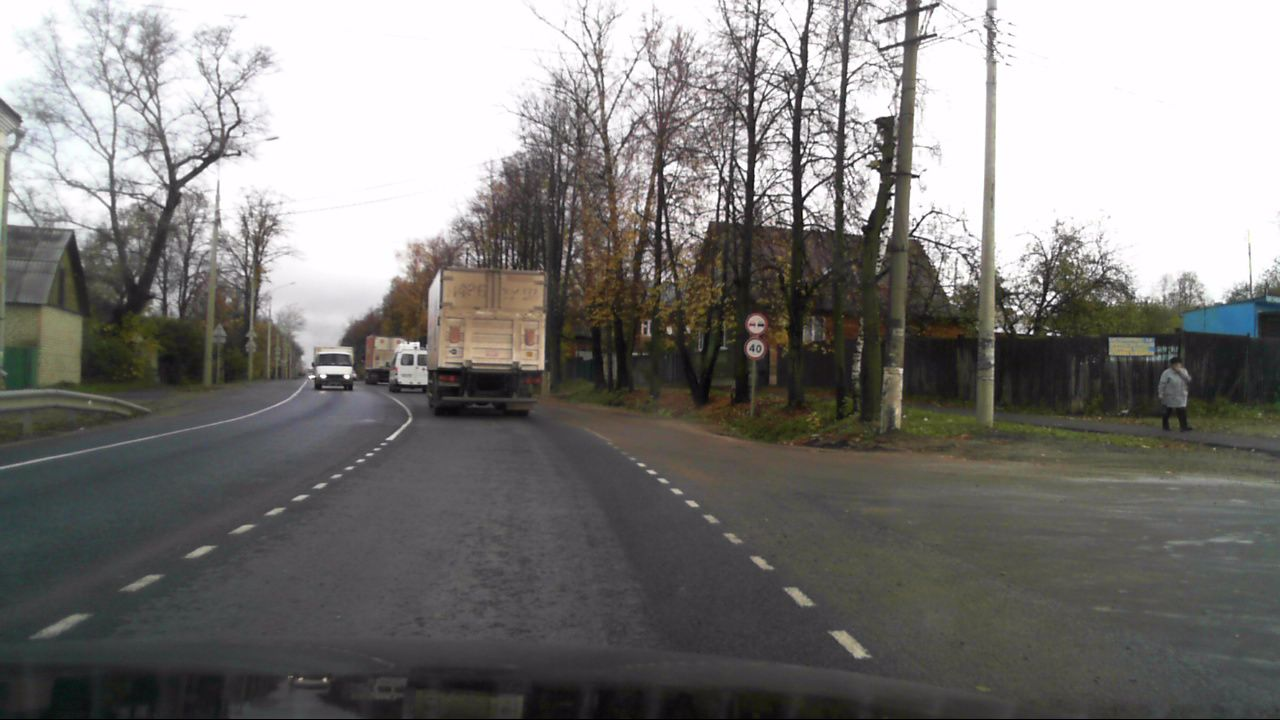speed_warning_40: (743, 338, 764, 358)
